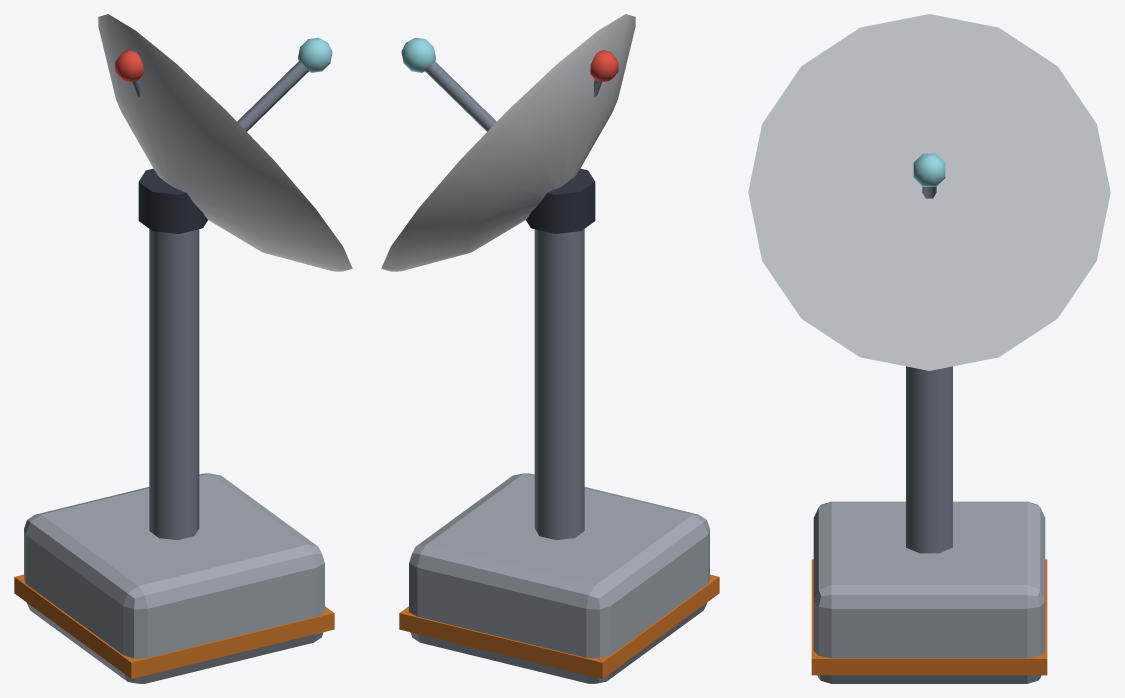
File: space-prop3.glb
3 views of the same model, side by side, from view 1: azimuth 30°, elevation 25°; view 2: azimuth 150°, elevation 25°; view 3: azimuth 270°, elevation 25° (orthographic).
Parts seen in each view (by area): view 1: space-prop3; view 2: space-prop3; view 3: space-prop3.
Boxes of the visible parts, bbox=[...] form: space-prop3: bbox=[14, 14, 352, 683]; space-prop3: bbox=[381, 14, 719, 683]; space-prop3: bbox=[748, 14, 1110, 683].
Bounding box in the file's own units: 0.8242 × 1.85 × 1.
